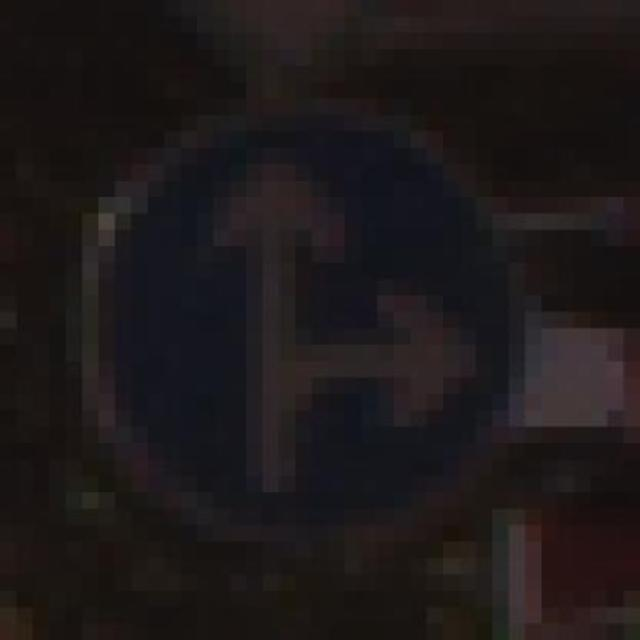Go Straight or Turn Right: (66, 66, 526, 574)
